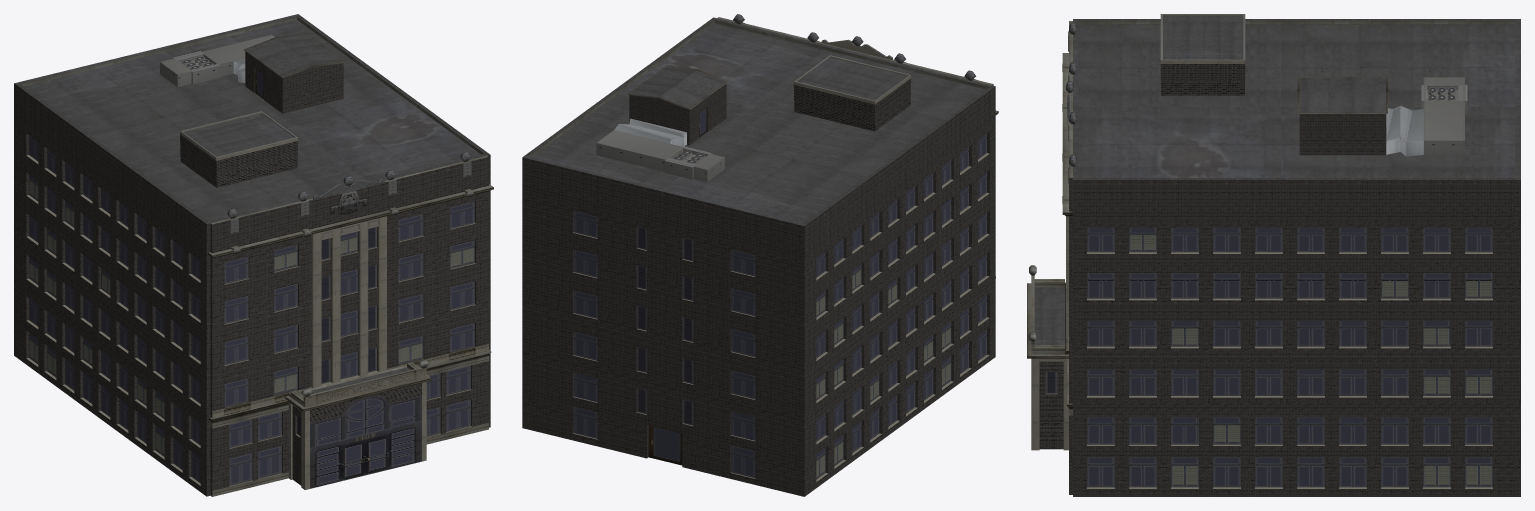
File: Building.fbx
3 renders of one model, left to right at view 1: azimuth 30°, elevation 25°; view 2: azimuth 150°, elevation 25°; view 3: azimuth 270°, elevation 25°, orthographic. The views are drawn at different scales.
Visible parts, largest first — view 1: Cube; view 2: Cube; view 3: Cube.
Boxes of the visible parts, x1,y1,x2,y2 form: Cube: [14, 14, 493, 496]; Cube: [522, 14, 998, 496]; Cube: [1027, 14, 1520, 496].
Bounding box in the file's own units: 16797 × 17515 × 21735.
